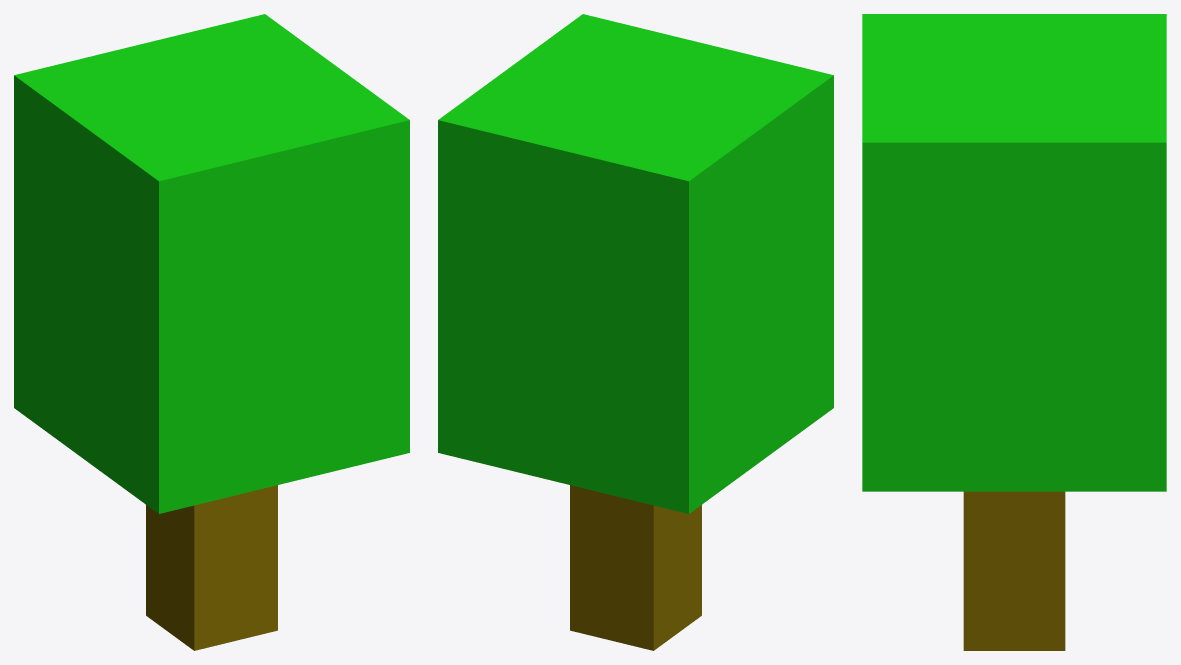
File: Tree_2.fbx
The picture shows the model from 3 angles, left to right: view 1: azimuth 30°, elevation 25°; view 2: azimuth 150°, elevation 25°; view 3: azimuth 270°, elevation 25°; orthographic projection. The views are drawn at different scales.
Visible parts, largest first — view 1: Tree_2; view 2: Tree_2; view 3: Tree_2.
Part boxes in pixels (x1,y1,x2,y2): Tree_2: (14,14,409,650); Tree_2: (438,14,833,650); Tree_2: (862,14,1166,650).
Size of the model in its own units: 15 by 30 by 15.
1 material, 1 textured.
